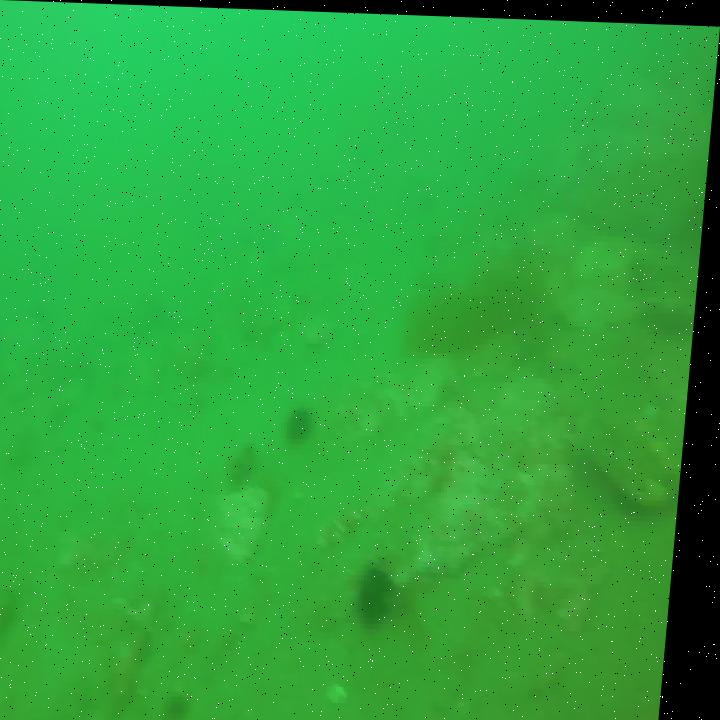echinus: (368, 555, 405, 626), (292, 399, 324, 441)
